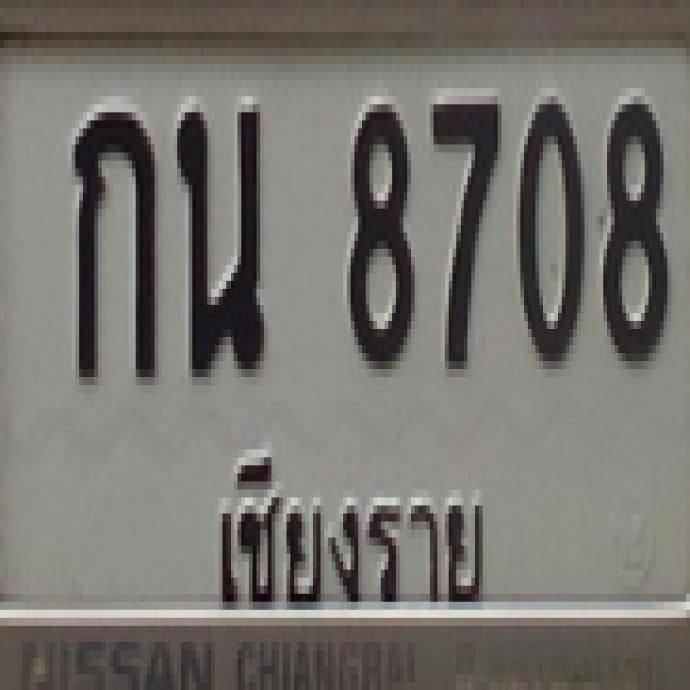0: (514, 93, 580, 361)
7: (428, 95, 497, 366)
8: (600, 95, 665, 359), (345, 97, 409, 361)
A01: (69, 104, 152, 378)
A25: (174, 97, 261, 370)
CRI: (203, 439, 499, 620)
